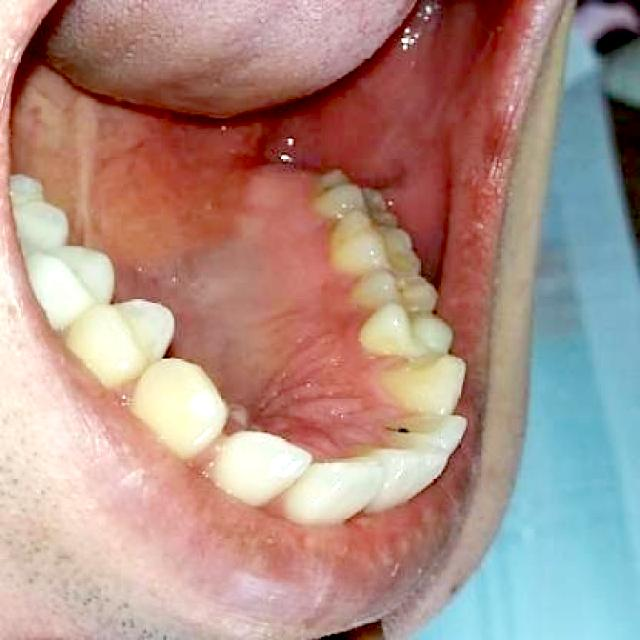Plaque: (317, 183, 340, 197)
